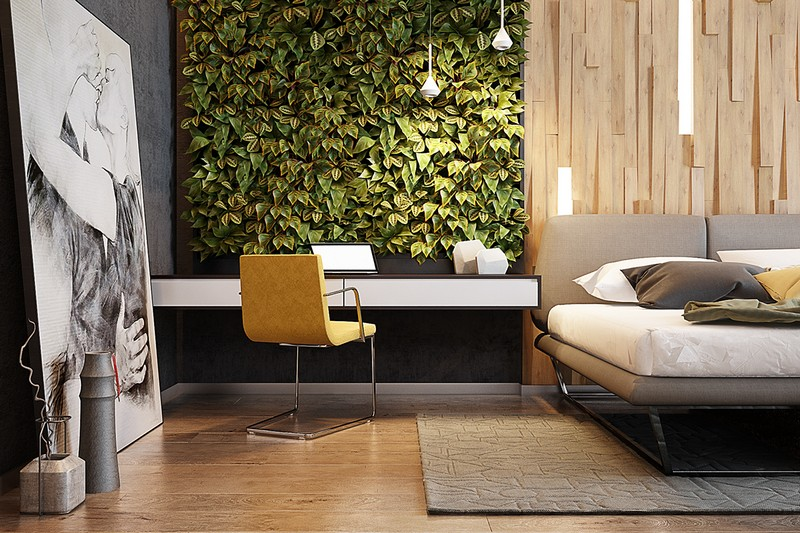bed: (535, 209, 797, 478)
chair: (234, 249, 377, 447)
lamp: (420, 39, 443, 103), (490, 9, 516, 52)
